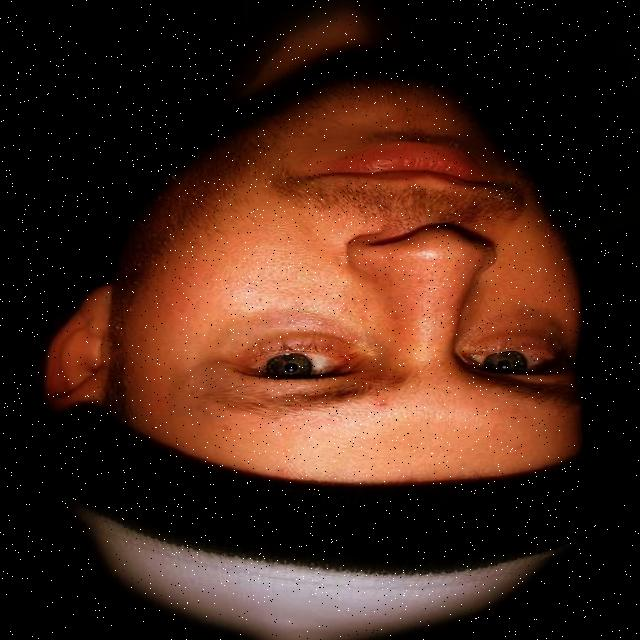puffy_eyes: (233, 306, 363, 358), (467, 312, 561, 350)
